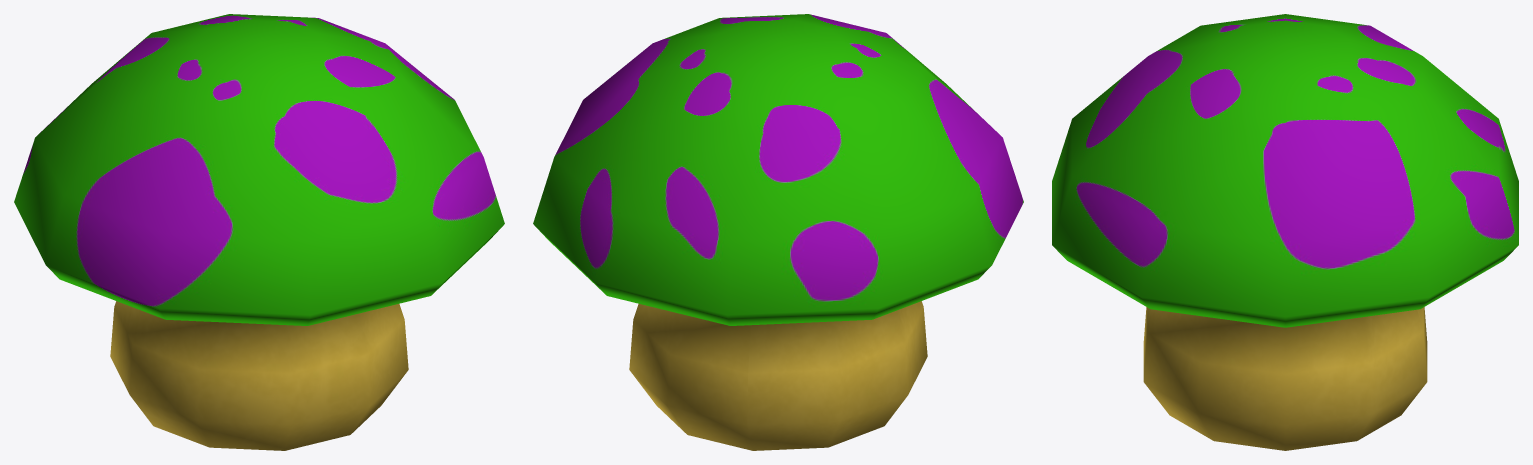
Rendered from hongo.fbx.
The picture shows the model from 3 angles, left to right: view 1: azimuth 30°, elevation 25°; view 2: azimuth 150°, elevation 25°; view 3: azimuth 270°, elevation 25°; orthographic projection.
Parts seen in each view (by area): view 1: hongo_model; view 2: hongo_model; view 3: hongo_model.
Part boxes in pixels (box(x1,y1,x2,y2)): hongo_model: box(14, 14, 504, 450); hongo_model: box(533, 14, 1023, 450); hongo_model: box(1052, 14, 1518, 450).
Size of the model in its own units: 4.03 by 3.22 by 3.83.
